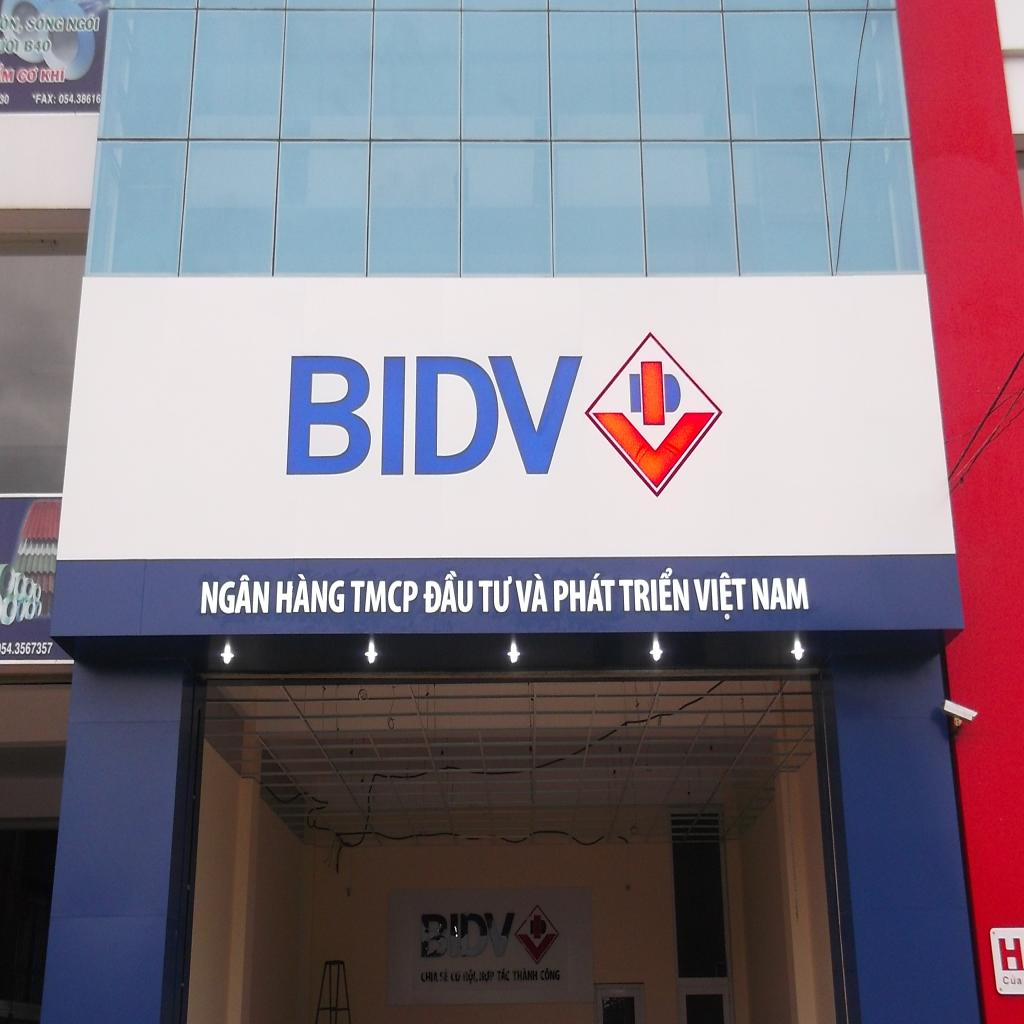text: (282, 339, 588, 479), (420, 909, 518, 962), (196, 573, 272, 619), (274, 574, 348, 619), (618, 569, 690, 613), (350, 574, 420, 619), (692, 571, 747, 623), (551, 573, 616, 616), (423, 571, 477, 618), (750, 576, 811, 613), (514, 573, 550, 615), (478, 574, 513, 615), (995, 937, 1024, 972), (24, 13, 66, 35), (65, 14, 103, 36), (22, 37, 56, 56), (0, 12, 24, 38), (58, 92, 102, 106), (15, 65, 41, 86), (38, 66, 68, 84), (512, 967, 540, 983), (4, 35, 22, 56), (34, 92, 57, 108), (540, 966, 562, 982), (461, 967, 479, 985), (420, 969, 440, 984), (478, 969, 496, 985), (1, 68, 17, 86), (1001, 974, 1023, 986), (449, 968, 463, 985), (497, 967, 511, 982), (440, 968, 450, 984), (0, 93, 10, 107)
